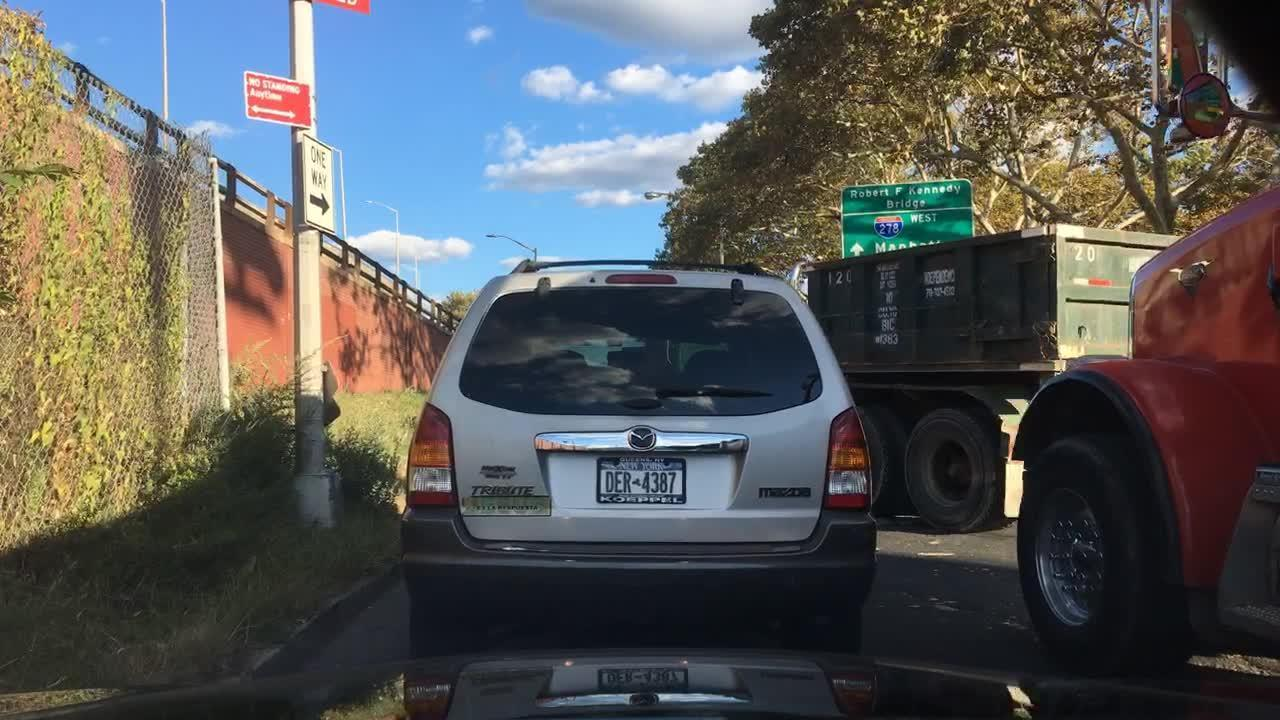Mazda: (628, 427, 657, 453)
